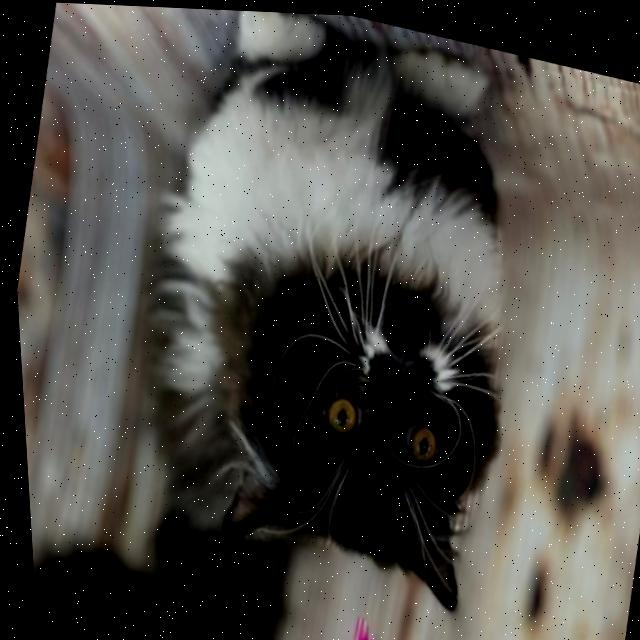Munchkin: (0, 0, 588, 640)
